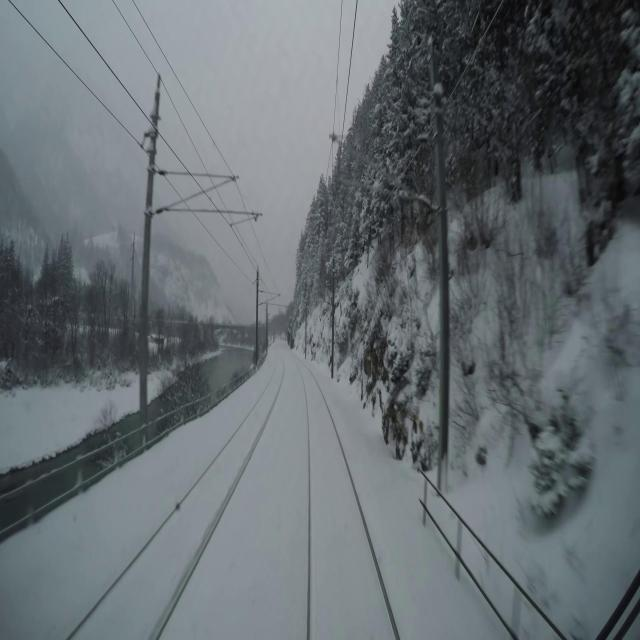rail-track: (71, 344, 282, 639), (299, 362, 394, 639)
